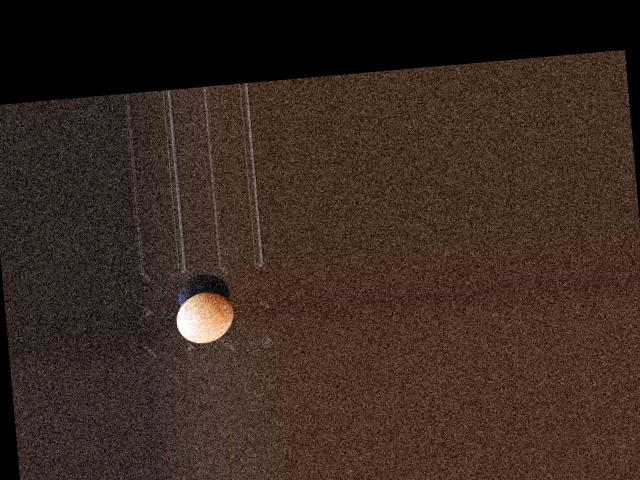egg: (174, 289, 236, 345)
